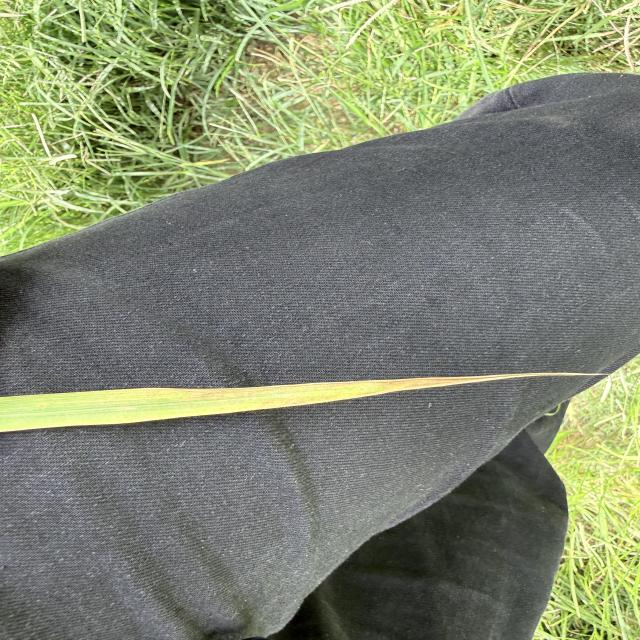Chay bia la: (158, 370, 613, 399)
